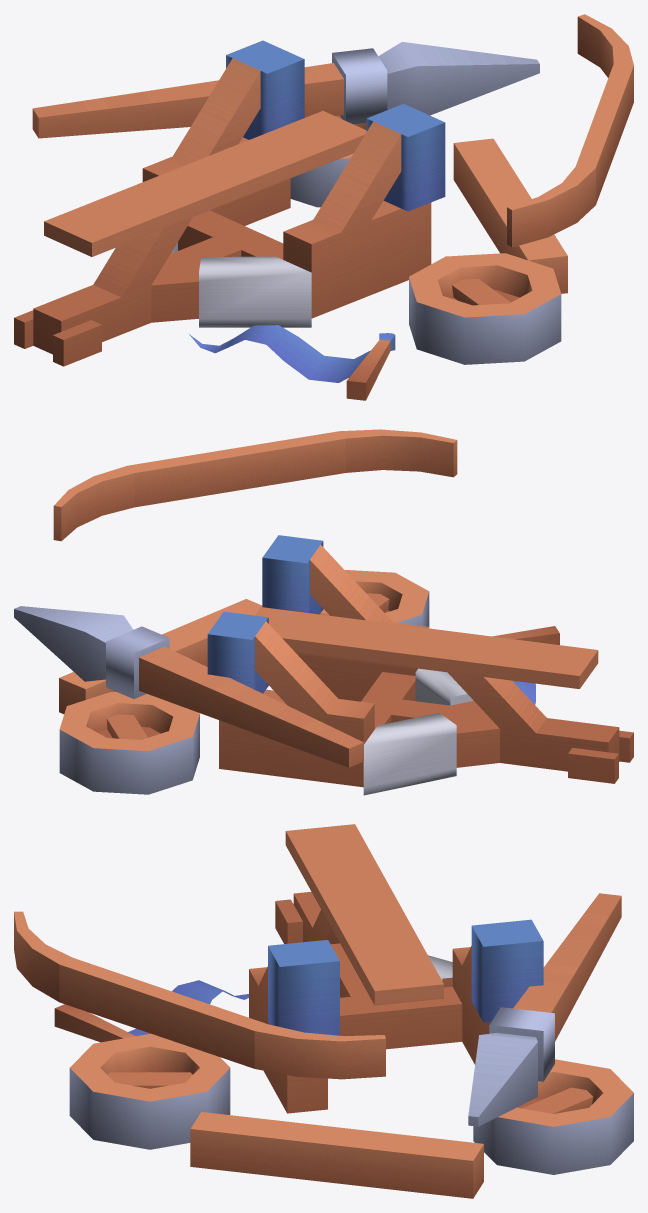
The model's file is siege-ballista-demolished.glb.
3 views of the same model, one above another, from view 1: azimuth 30°, elevation 25°; view 2: azimuth 150°, elevation 25°; view 3: azimuth 270°, elevation 25° (orthographic). The views are drawn at different scales.
Parts seen in each view (by area): view 1: siege-ballista-demolished; view 2: siege-ballista-demolished; view 3: siege-ballista-demolished.
Part boxes in pixels (left/top/right/bottom): siege-ballista-demolished: left=14, top=14, right=633, bottom=400; siege-ballista-demolished: left=14, top=429, right=633, bottom=795; siege-ballista-demolished: left=14, top=824, right=633, bottom=1198.
Bounding box in the file's own units: 1.75 × 0.5097 × 1.55.
Materials: 1 (1 with a texture image).
